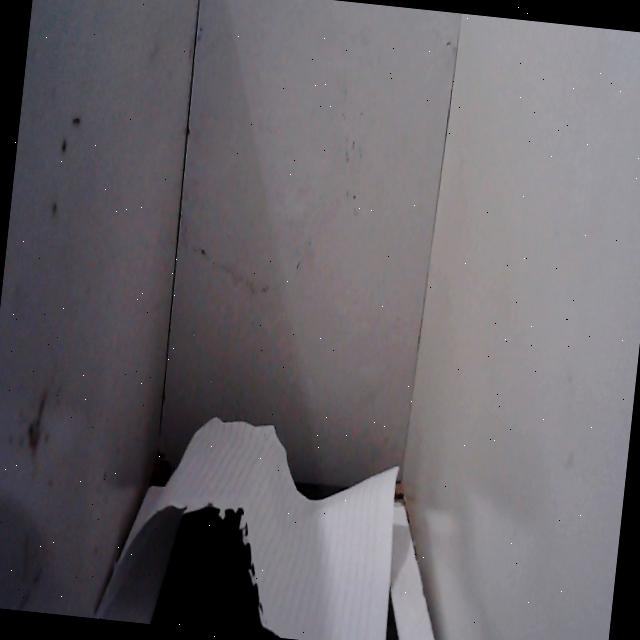papel: (92, 391, 412, 640)
